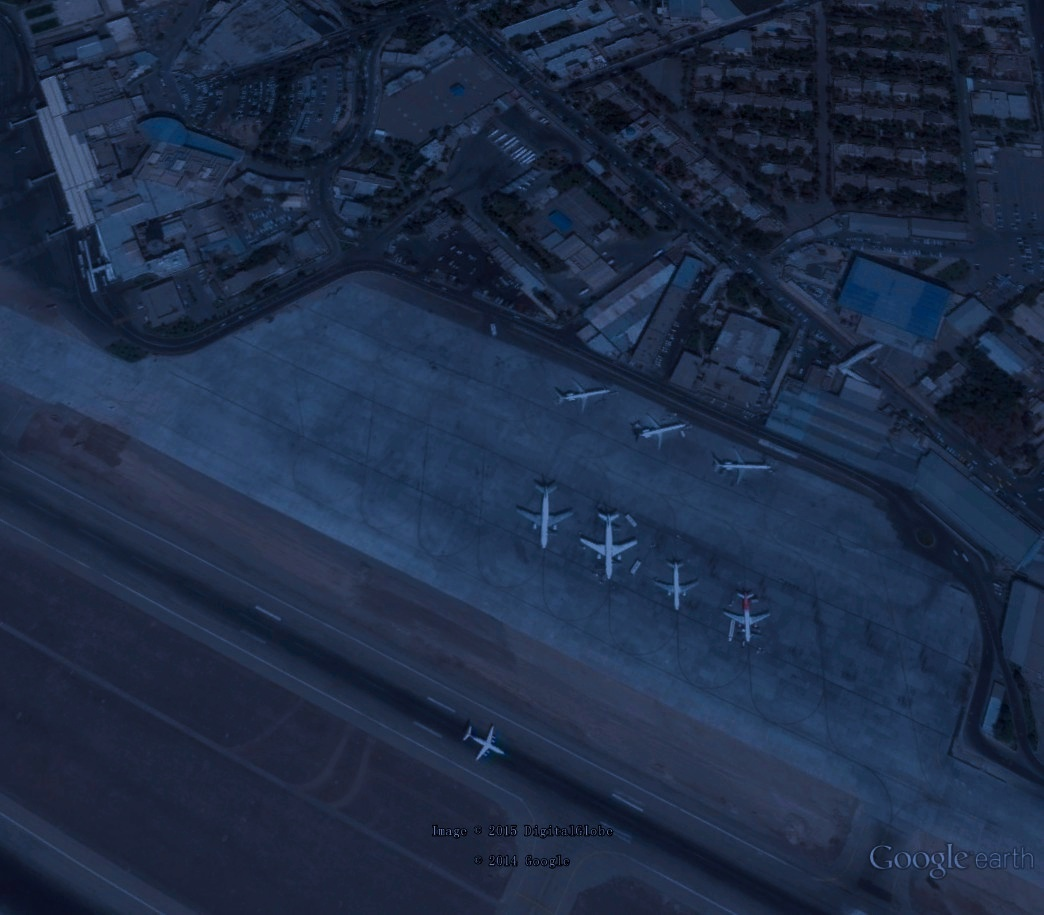aircraft: (576, 505, 646, 583), (510, 480, 579, 555), (718, 585, 775, 646), (649, 556, 703, 618), (709, 442, 777, 490), (628, 409, 693, 454), (549, 376, 616, 417), (459, 720, 514, 765)
